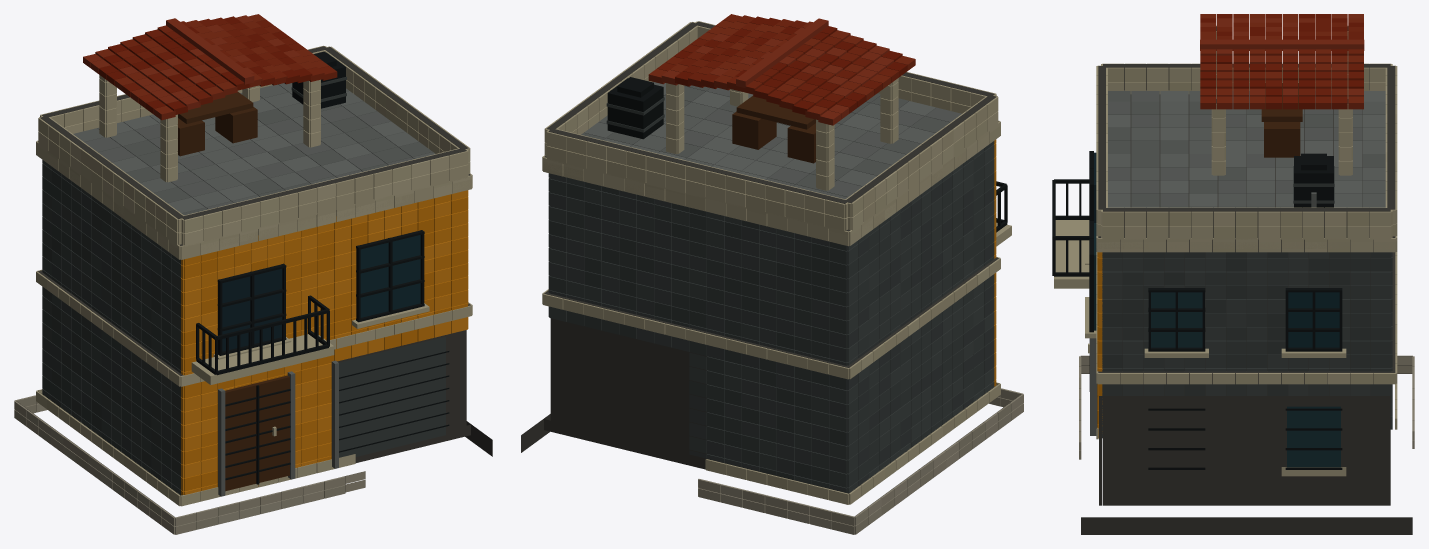
Rendered from SM_StreetFrontage_054.fbx.
The picture shows the model from 3 angles, left to right: view 1: azimuth 30°, elevation 25°; view 2: azimuth 150°, elevation 25°; view 3: azimuth 270°, elevation 25°; orthographic projection. The views are drawn at different scales.
Parts seen in each view (by area): view 1: SM_StreetFrontage_054; view 2: SM_StreetFrontage_054; view 3: SM_StreetFrontage_054.
Part boxes in pixels (bbox=[...]): SM_StreetFrontage_054: bbox=[14, 14, 492, 534]; SM_StreetFrontage_054: bbox=[521, 14, 1023, 534]; SM_StreetFrontage_054: bbox=[1052, 14, 1414, 534].
Bounding box in the file's own units: 7.96 × 7.53 × 9.15.
